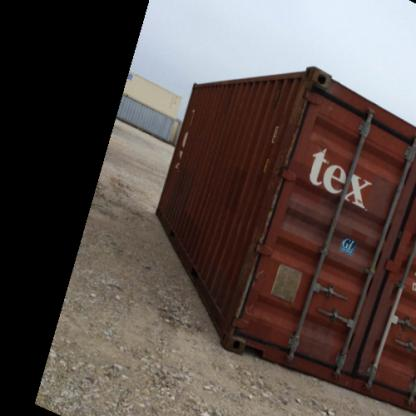Damage: (240, 300, 262, 322), (250, 266, 268, 286)
